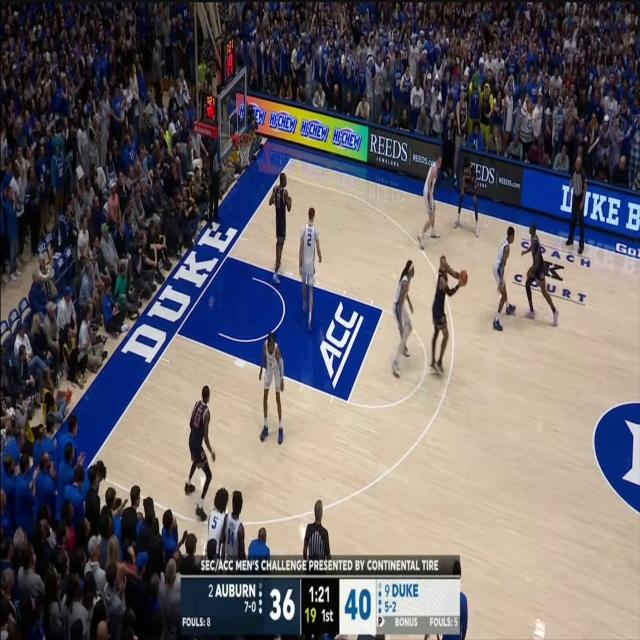basketball: (453, 241, 475, 316)
